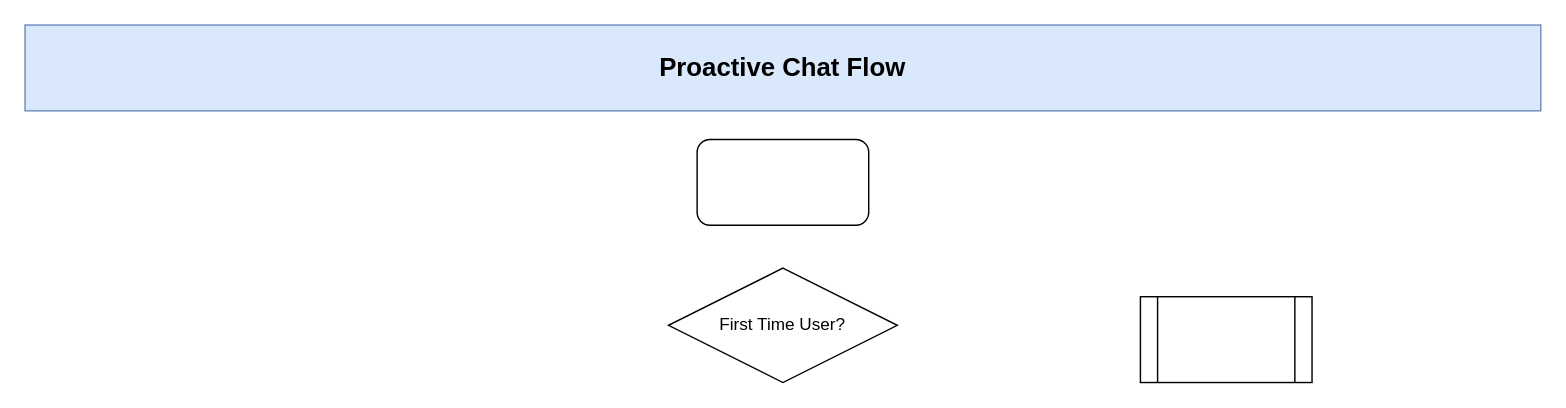
This 1566x408 diagram has some shape labels left out. Each missing label, with the centre of its shape:
Chat Initiated via 3rd Part Script or Trigger: [782,181]
Send Welcome Message and Bot Explanation: [1225,339]
